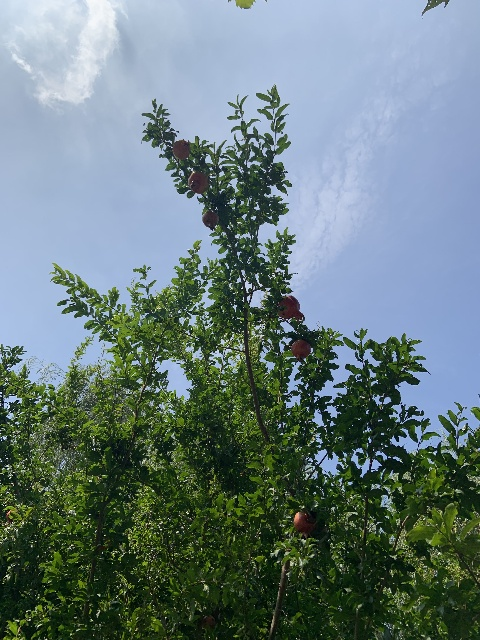ripe: (277, 295, 305, 323), (293, 510, 316, 537), (188, 170, 208, 193), (291, 339, 311, 361), (172, 138, 190, 159), (202, 210, 218, 230)
